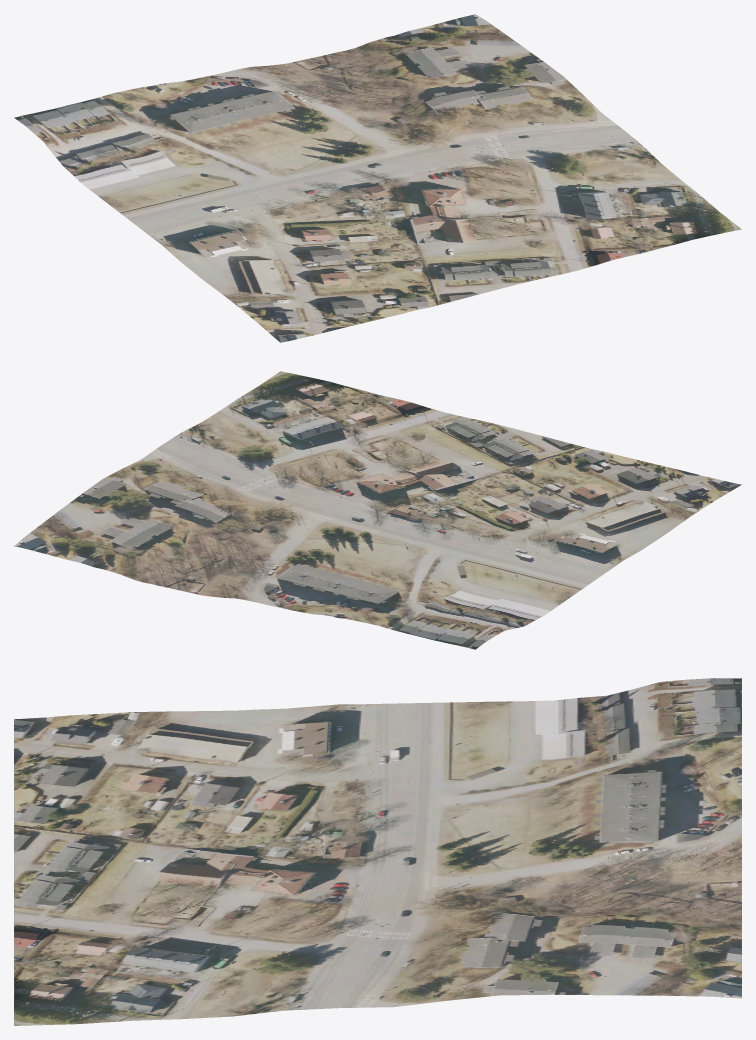
File: CM_Terrain_24491278_6819589.fbx
3 renders of one model, top to bottom at view 1: azimuth 30°, elevation 25°; view 2: azimuth 150°, elevation 25°; view 3: azimuth 270°, elevation 25°, orthographic. The views are drawn at different scales.
Visible parts, largest first — view 1: CM_Terrain_24491278_6819589_LOD0; view 2: CM_Terrain_24491278_6819589_LOD0; view 3: CM_Terrain_24491278_6819589_LOD0.
Part boxes in pixels (left/top/right/bottom): CM_Terrain_24491278_6819589_LOD0: left=14, top=14, right=741, bottom=342; CM_Terrain_24491278_6819589_LOD0: left=14, top=371, right=741, bottom=649; CM_Terrain_24491278_6819589_LOD0: left=14, top=678, right=741, bottom=1025.
Size of what is drawn, in the model's own units: 205 by 13.34 by 205.
